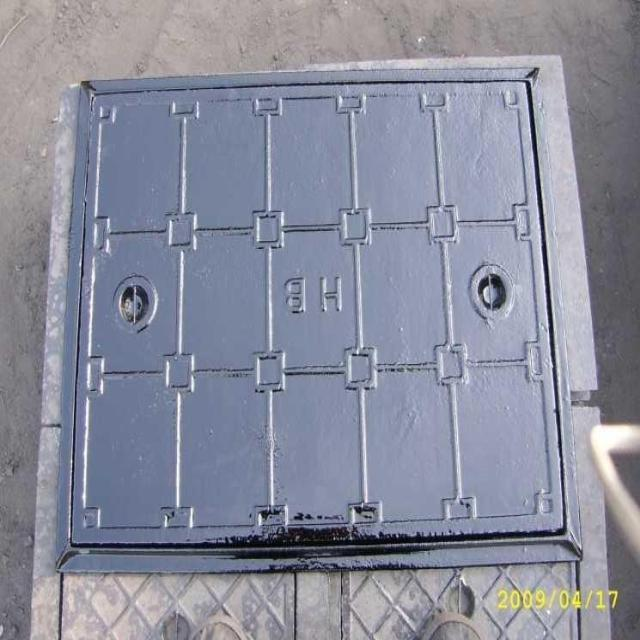manhole: (58, 66, 580, 572)
